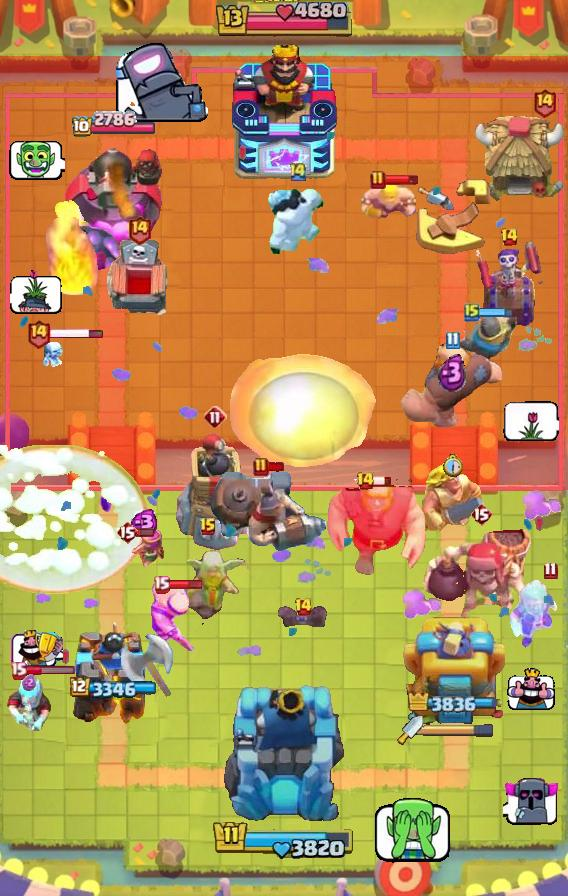archer: (360, 181, 416, 223)
arrows: (150, 581, 194, 651)
baby-dragon: (49, 198, 121, 272)
balloon: (325, 479, 427, 577), (400, 339, 504, 431)
bar: (401, 611, 505, 731)
barbarian-barrel: (274, 605, 332, 627)
cannon: (120, 528, 166, 572)
clock: (212, 819, 356, 861), (213, 2, 355, 40)
electro-giant: (421, 520, 541, 630)
electro-spirit: (438, 353, 467, 392), (127, 509, 159, 535), (22, 674, 36, 691)
elixir: (442, 454, 463, 477)
elixir-golem-mid: (104, 238, 174, 324)
emote: (49, 328, 104, 341), (24, 665, 75, 676), (383, 174, 419, 186), (478, 306, 514, 317), (169, 579, 204, 590), (372, 475, 392, 487), (266, 461, 285, 473), (136, 526, 155, 538)
firecracker: (457, 312, 517, 364)
goblin-hut: (416, 462, 486, 536)
heal-spirit: (41, 338, 69, 372)
king-tower: (221, 682, 347, 826), (230, 41, 338, 181)
king-tower-bar: (423, 723, 495, 737)
mortar: (508, 577, 568, 651), (5, 673, 53, 733)
phoenix-big: (0, 445, 148, 595)
poison: (164, 542, 252, 626)
prince: (474, 114, 568, 204)
queen-tower: (72, 619, 156, 731)
rage: (268, 186, 328, 258)
royal-giant: (118, 631, 176, 703)
selected: (71, 111, 157, 139), (69, 676, 158, 700), (407, 693, 499, 713)
skeleton: (116, 42, 212, 126), (372, 798, 455, 864), (504, 774, 561, 826), (7, 138, 64, 181), (9, 269, 62, 315), (503, 401, 559, 441), (9, 629, 62, 669), (507, 668, 555, 711)
skeleton-king-bar: (475, 242, 543, 328)
text: (532, 86, 557, 117), (128, 214, 153, 245), (25, 319, 50, 350), (203, 405, 227, 429), (470, 502, 492, 526), (116, 520, 138, 544), (288, 161, 308, 182), (500, 227, 519, 247), (356, 471, 375, 491), (294, 597, 313, 617), (199, 517, 217, 537), (9, 661, 27, 679), (153, 575, 170, 594), (370, 170, 386, 190), (464, 302, 480, 322), (253, 457, 269, 477), (445, 330, 460, 349), (543, 561, 557, 580)
tower-bar: (63, 138, 164, 256)
valkyrie: (224, 348, 382, 478), (46, 214, 104, 300)
wizard: (209, 469, 331, 553)
zappy: (172, 432, 258, 552)
